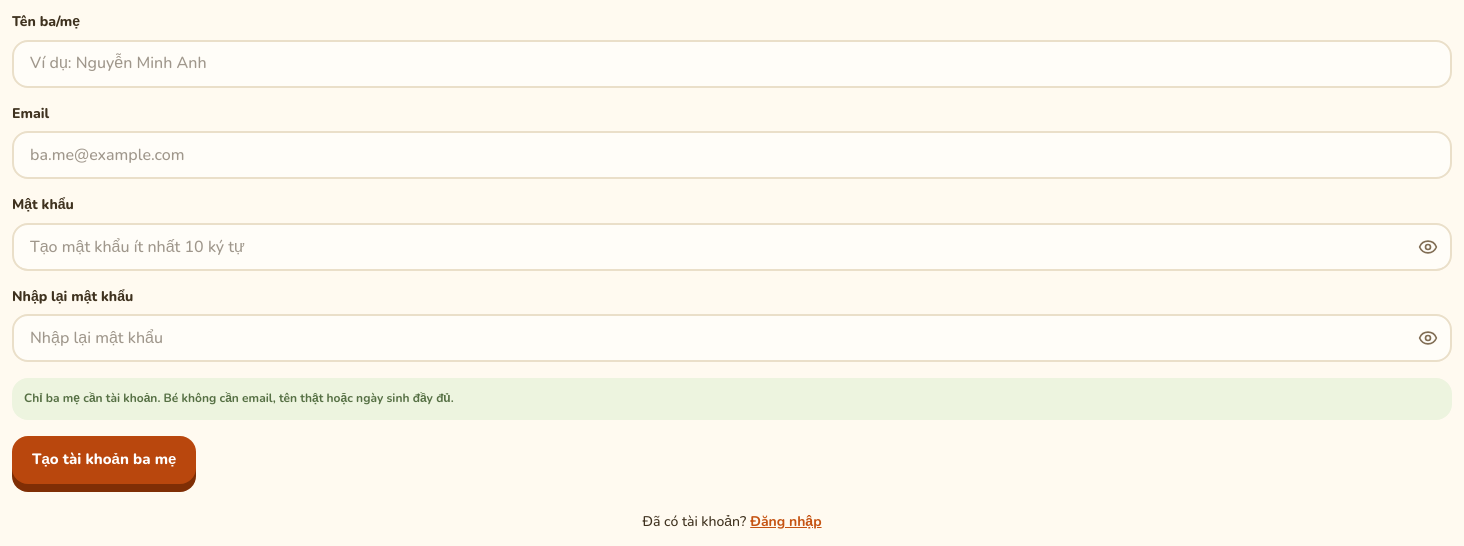
Test: authentication verification UX › turns successful registration into a required email-verification step
Type "Nguyễn Minh" into the field labelled "Tên ba/mẹ".
click(732, 64); type("Nguyễn Minh")  # box [12,40,1452,88]
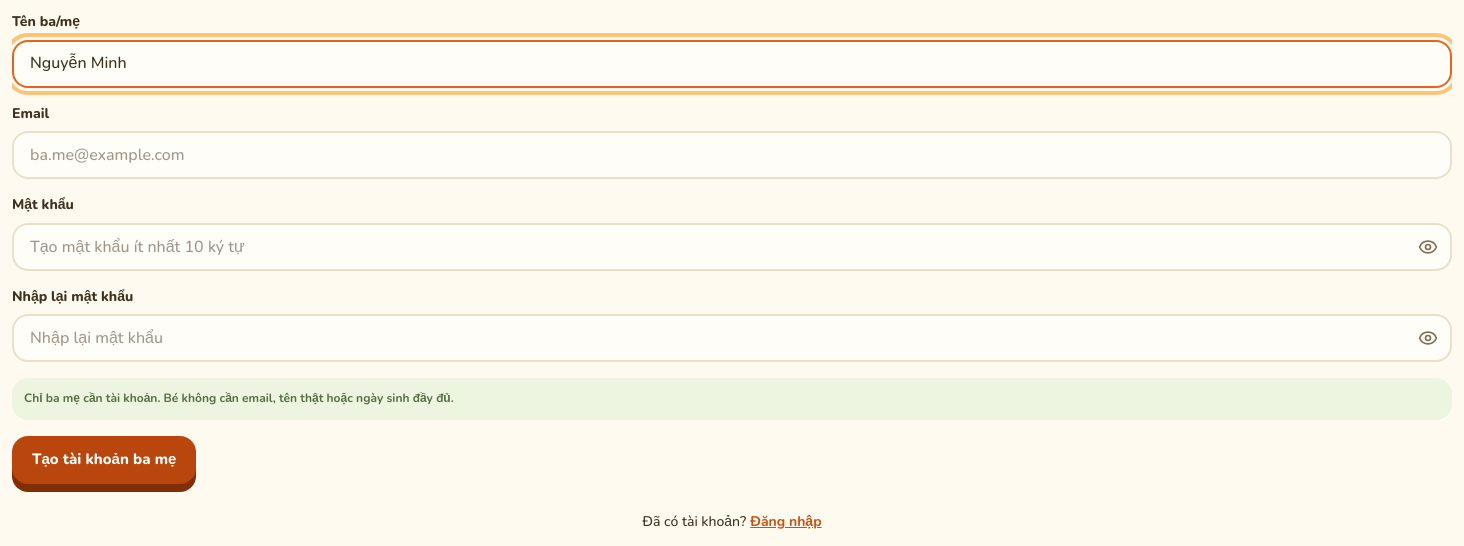
Type "new@example.com" into the field labelled "Email".
click(732, 155); type("new@example.com")  # box [12,131,1452,179]
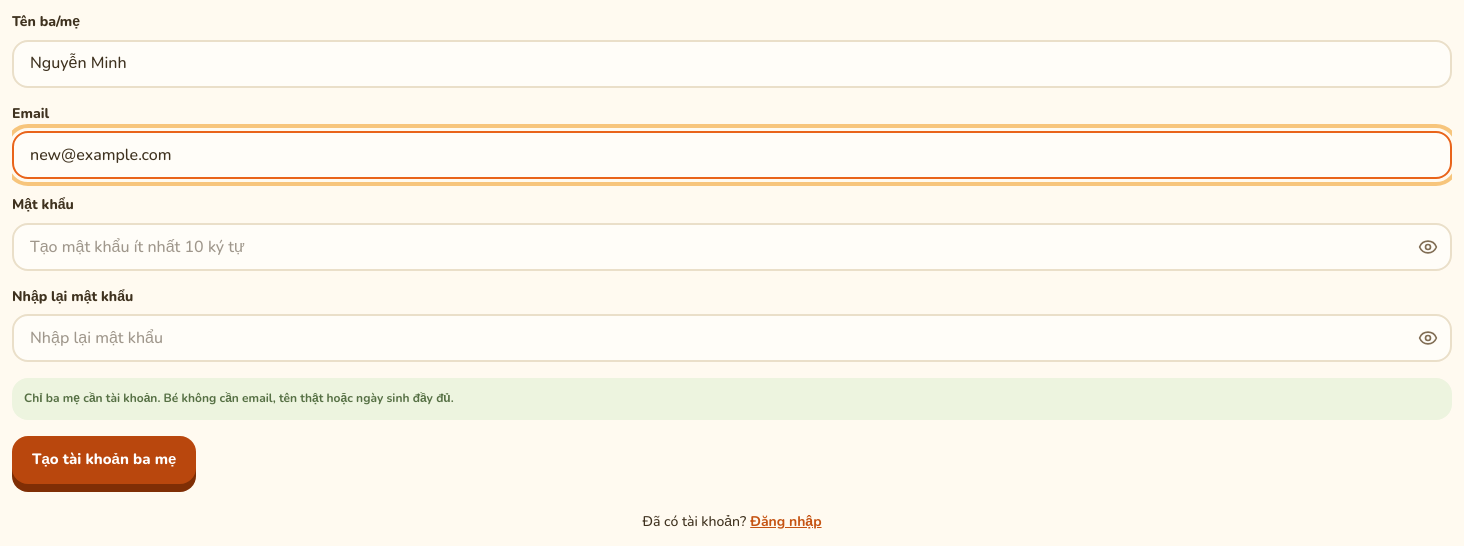
Type "StrongPass123!" into the password field labelled "Mật khẩu".
click(732, 247); type("StrongPass123!")  # box [12,223,1452,271]
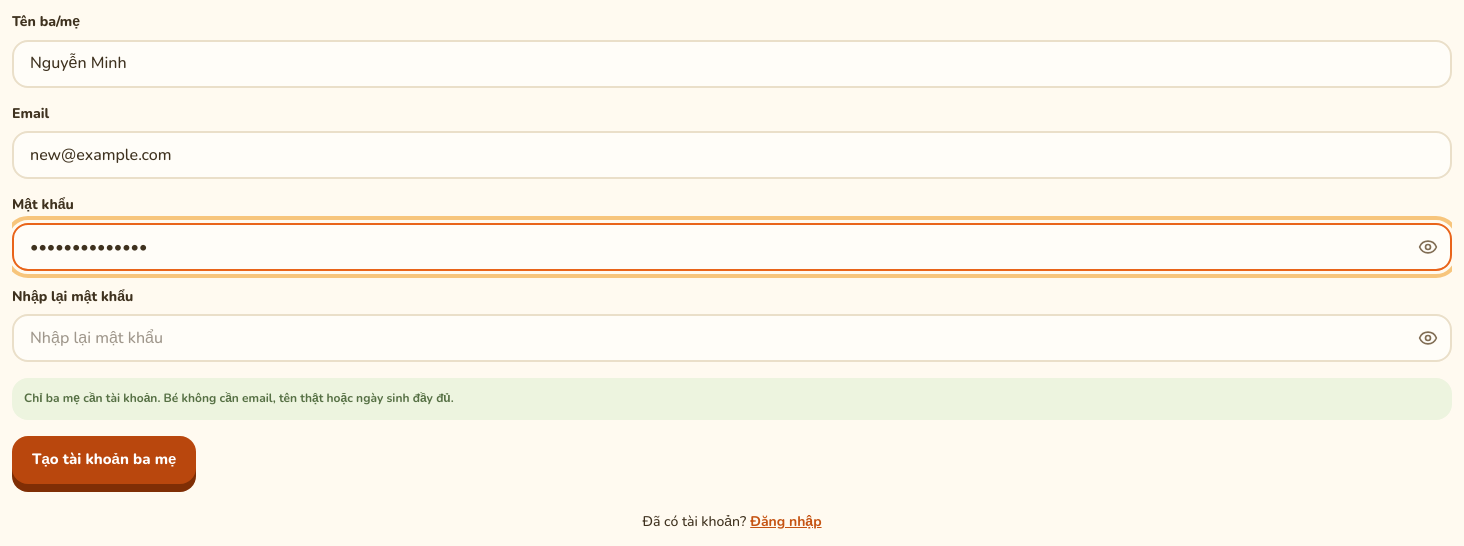
Type "StrongPass123!" into the password field labelled "Nhập lại mật khẩu".
click(732, 338); type("StrongPass123!")  # box [12,314,1452,362]
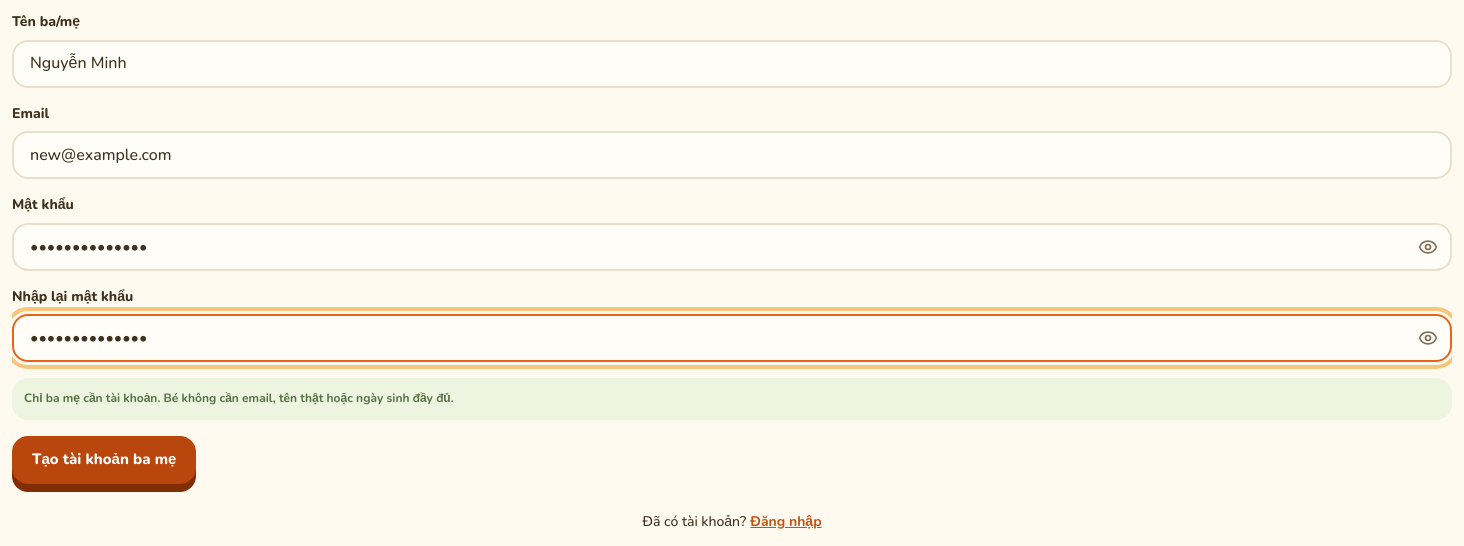
Click the button "Tạo tài khoản ba mẹ".
click(104, 460)  # box [12,436,196,484]
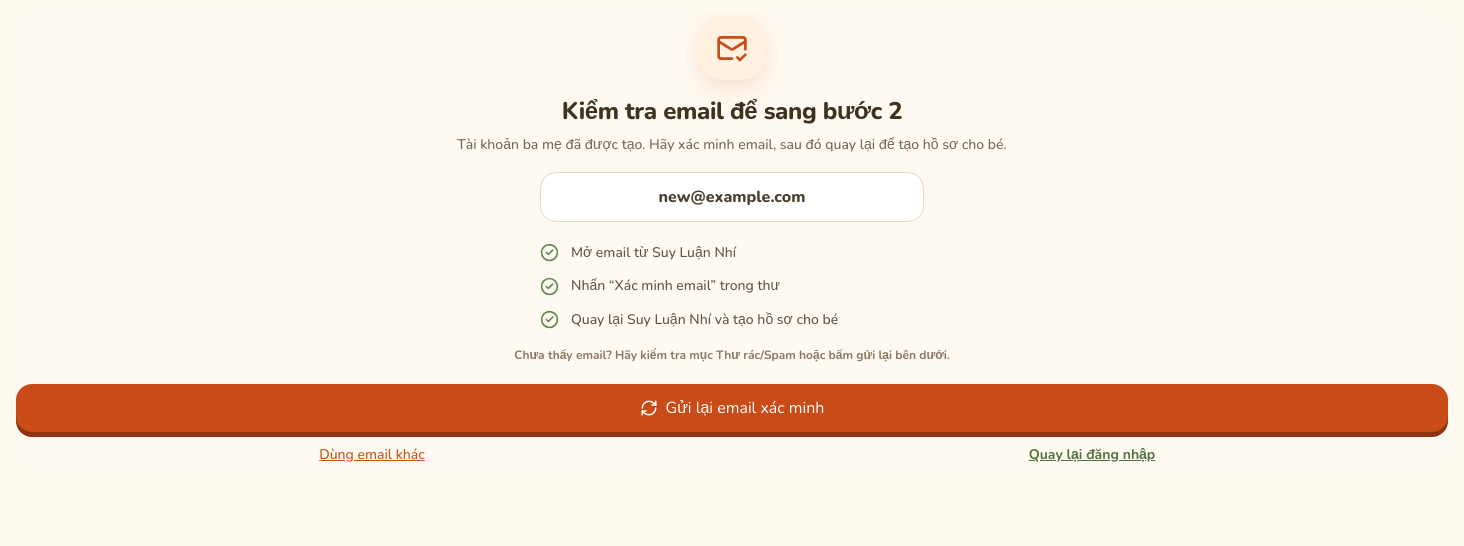
expect the heading "Kiểm tra email để sang bước 2" is shown: met, box [562,95,902,127]
expect the text "new@example.com" is shown: met, box [540,172,924,222]
